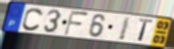3: (42, 9, 63, 34)
6: (88, 14, 107, 39)
C: (21, 7, 45, 33)
F: (62, 10, 90, 37)
I: (118, 16, 132, 42)
T: (137, 18, 155, 43)
